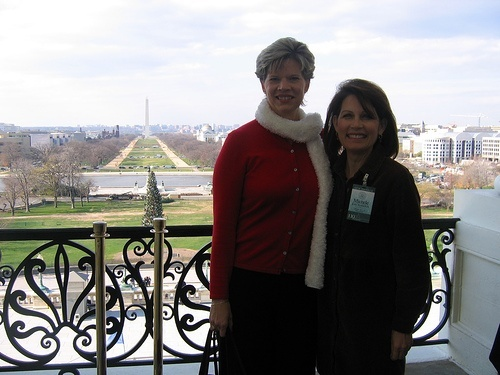head: (249, 33, 320, 119), (327, 74, 390, 160)
person: (205, 32, 333, 375), (316, 77, 429, 374)
